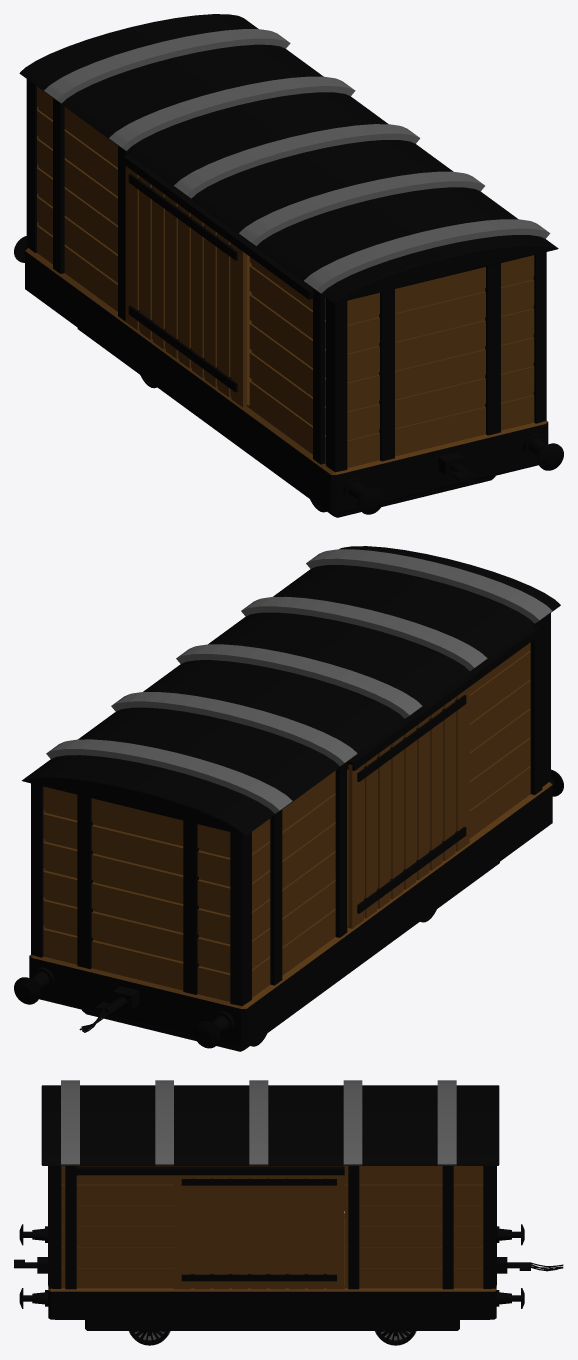
Rendered from Train_Wagon_Var_01.fbx.
3 views of the same model, one above another, from view 1: azimuth 30°, elevation 25°; view 2: azimuth 150°, elevation 25°; view 3: azimuth 270°, elevation 25° (orthographic). The views are drawn at different scales.
Visible parts, largest first — view 1: Train_Wagon_Car_01_Merged; view 2: Train_Wagon_Car_01_Merged; view 3: Train_Wagon_Car_01_Merged.
Boxes of the visible parts, x1,y1,x2,y2 form: Train_Wagon_Car_01_Merged: (14,14,563,517); Train_Wagon_Car_01_Merged: (14,546,563,1051); Train_Wagon_Car_01_Merged: (14,1080,563,1345).
Bounding box in the file's own units: 299 × 370 × 840.
